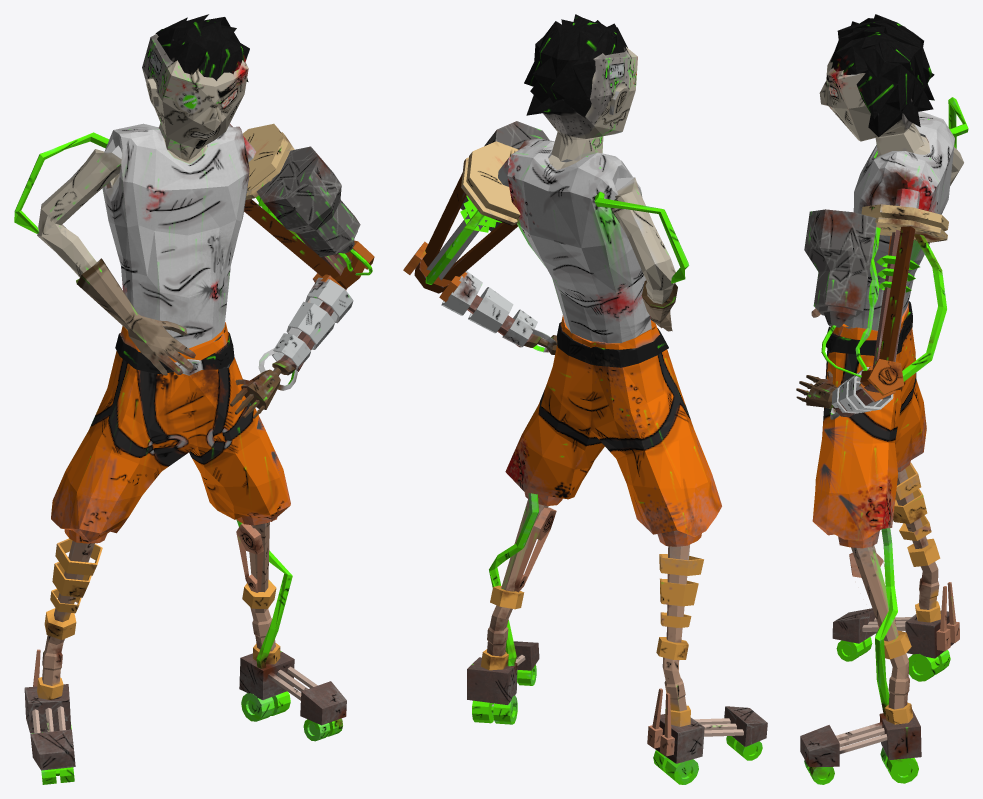
The model's file is CyborgFINALAnimation_000031.obj.
3 renders of one model, left to right at view 1: azimuth 30°, elevation 25°; view 2: azimuth 150°, elevation 25°; view 3: azimuth 270°, elevation 25°, orthographic.
Parts seen in each view (by area): view 1: CyborgMesh_Cube.002; view 2: CyborgMesh_Cube.002; view 3: CyborgMesh_Cube.002.
Part boxes in pixels (x1,y1,x2,y2): CyborgMesh_Cube.002: (14, 14, 374, 784); CyborgMesh_Cube.002: (403, 14, 767, 784); CyborgMesh_Cube.002: (796, 14, 968, 784).
Bounding box in the file's own units: 4.86 × 9.6 × 2.09.
